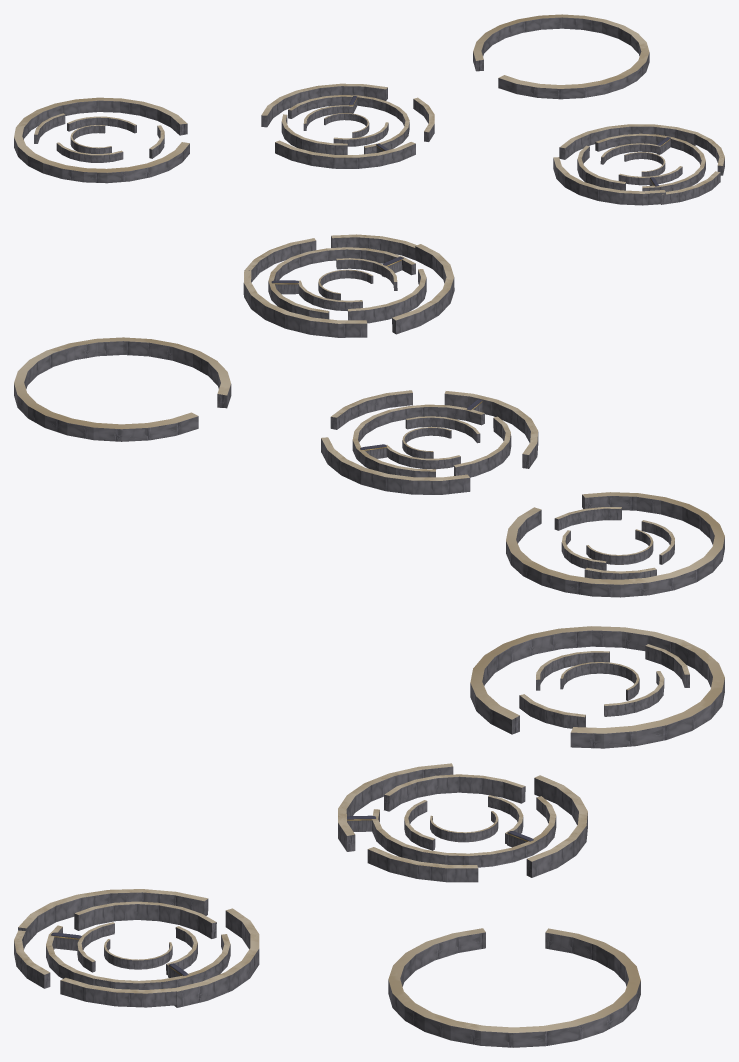
Rendered from New taurus barriers.fbx.
3 renders of one model, top to bottom at view 1: azimuth 30°, elevation 25°; view 2: azimuth 150°, elevation 25°; view 3: azimuth 270°, elevation 25°, orthographic. The views are drawn at different scales.
Visible parts, largest first — view 1: Cylinder, Cylinder__7_, Cylinder__3_, Cylinder_001__2_, Cylinder__2__1, Cylinder_1, Cylinder_001__2__1, Cylinder__1__1, Cylinder__6_, new_Hedge_3__2_, Cylinder__6__1, Cylinder__1_ (+11 smaller); view 2: Cylinder__7_, Cylinder, Cylinder_1, Cylinder_001__2_, Cylinder_001__2__1, Cylinder__1__1, Cylinder__2__1, Cylinder__3_, Cylinder__6__1, new_Hedge_3_1, Cylinder__6_, new_Hedge_3__2_ (+12 smaller); view 3: Cylinder, Cylinder__7_, Cylinder_001__2_, Cylinder__2__1, Cylinder__6__1, Cylinder__6_, Cylinder__1__1, Cylinder_1, Cylinder_001__2__1, Cylinder__3_, new_Hedge_3__1__1, new_Hedge_3_1 (+10 smaller).
Part boxes in pixels (x1,y1,x2,y2): Cylinder: [14, 97, 189, 183]; Cylinder__7_: [473, 14, 649, 99]; Cylinder__3_: [275, 140, 415, 168]; Cylinder_001__2_: [288, 95, 409, 154]; Cylinder__2__1: [553, 157, 666, 205]; Cylinder_1: [261, 83, 387, 127]; Cylinder_001__2__1: [595, 133, 705, 191]; Cylinder__1__1: [559, 124, 697, 159]; Cylinder__6_: [281, 114, 347, 154]; new_Hedge_3__2_: [661, 171, 720, 204]; Cylinder__6__1: [577, 145, 625, 190]; Cylinder__1_: [67, 116, 136, 133]; Cylinder__7_: [14, 337, 231, 441]; Cylinder: [506, 492, 724, 597]; Cylinder_1: [321, 437, 470, 494]; Cylinder_001__2_: [352, 404, 484, 477]; Cylinder_001__2__1: [268, 247, 415, 319]; Cylinder__1__1: [243, 270, 367, 337]; Cylinder__2__1: [392, 244, 454, 334]; Cylinder__3_: [444, 391, 538, 468]; Cylinder__6__1: [348, 269, 426, 323]; new_Hedge_3_1: [330, 390, 412, 429]; Cylinder__6_: [454, 416, 511, 477]; new_Hedge_3__2_: [331, 234, 416, 260]; Cylinder: [470, 626, 724, 748]; Cylinder__7_: [388, 928, 640, 1047]; Cylinder_001__2_: [372, 796, 556, 867]; Cylinder__2__1: [18, 889, 208, 944]; Cylinder__6__1: [74, 901, 216, 938]; Cylinder__6_: [384, 774, 525, 811]; Cylinder__1__1: [174, 908, 259, 1007]; Cylinder_1: [526, 775, 587, 877]; Cylinder_001__2__1: [46, 925, 230, 989]; Cylinder__3_: [338, 763, 453, 851]; new_Hedge_3__1__1: [60, 977, 176, 1007]; new_Hedge_3_1: [367, 847, 478, 882].
Size of the model in its own units: 12183 by 16500 by 377.
